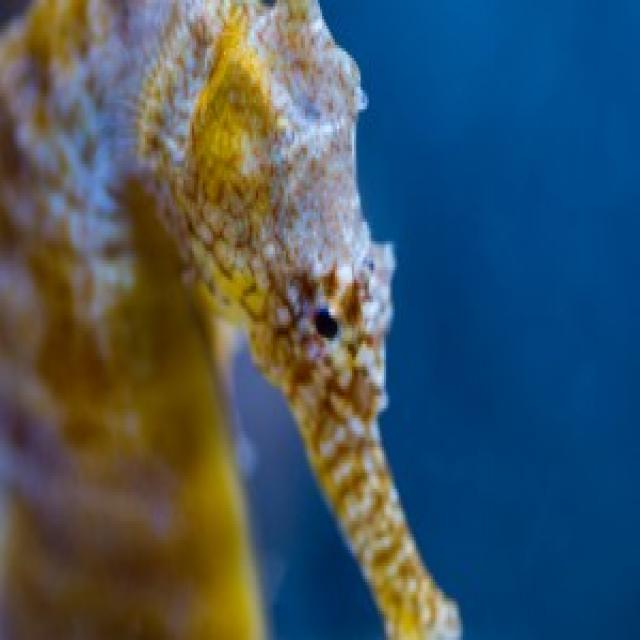Seahorse: (0, 0, 472, 633)
